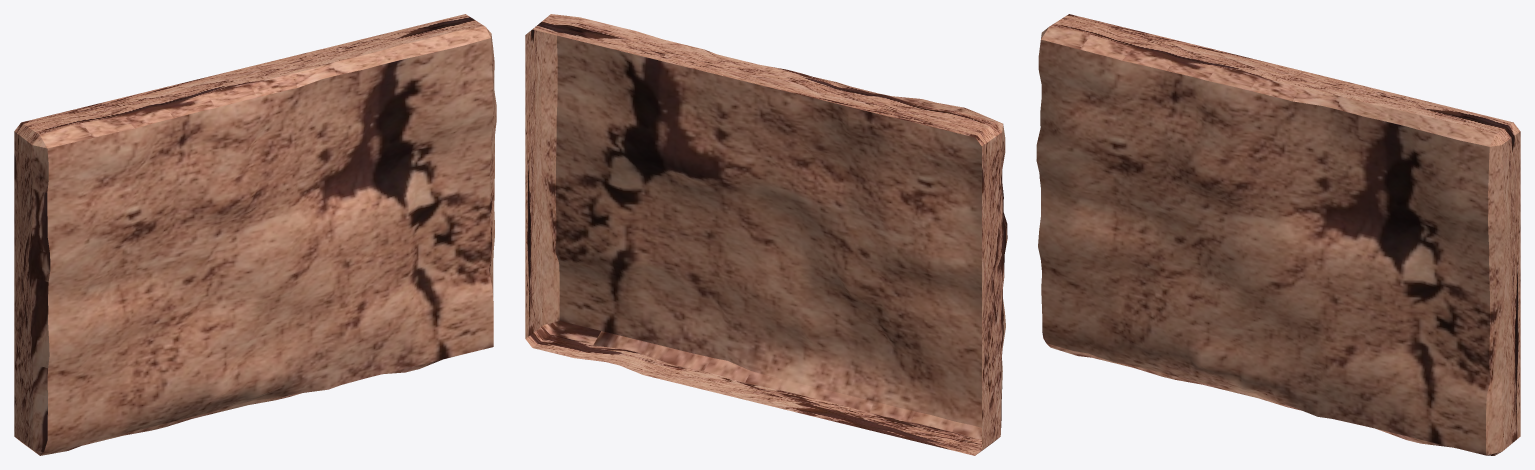
The model's file is env_model_rock_wall_001.fbx.
3 renders of one model, left to right at view 1: azimuth 30°, elevation 25°; view 2: azimuth 150°, elevation 25°; view 3: azimuth 330°, elevation 25°, orthographic.
Visible parts, largest first — view 1: pCube9; view 2: pCube9; view 3: pCube9.
Part boxes in pixels (x1,y1,x2,y2): pCube9: (14, 14, 496, 455); pCube9: (525, 14, 1007, 455); pCube9: (1036, 14, 1520, 455).
Bounding box in the file's own units: 1525 × 1018 × 197.
